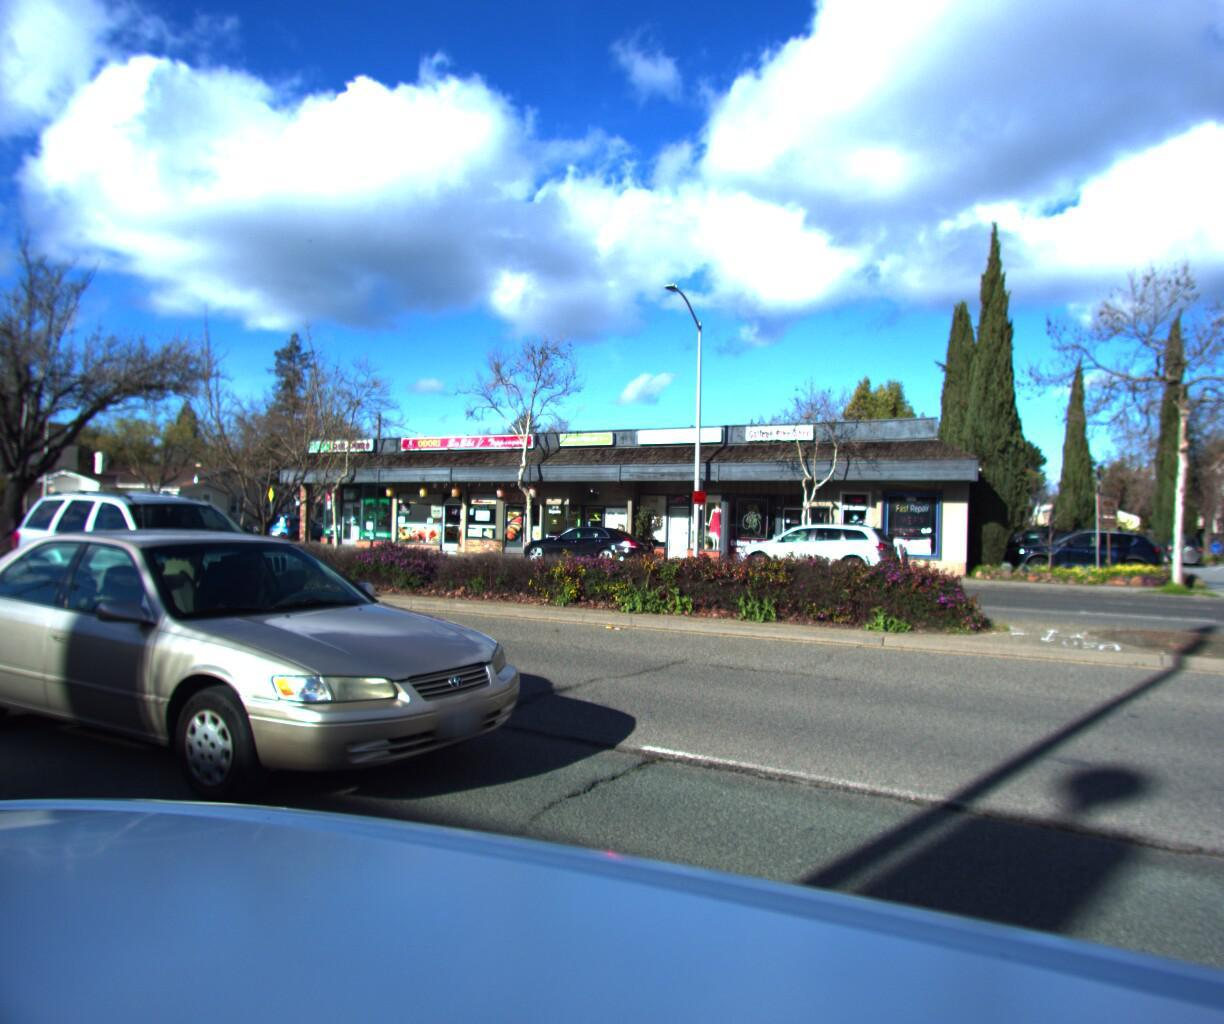car: (0, 496, 572, 859), (3, 488, 338, 643), (723, 522, 905, 584), (1011, 528, 1168, 588), (513, 527, 664, 578), (259, 515, 332, 545), (0, 503, 25, 537)
